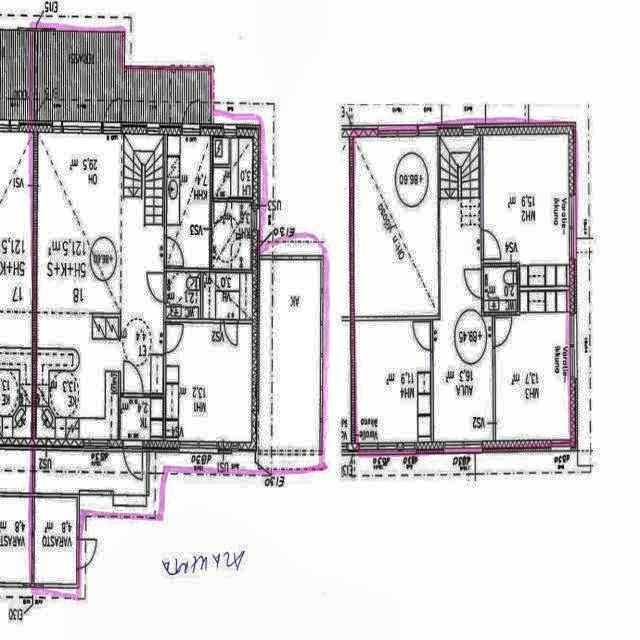room: (353, 137, 438, 316), (483, 135, 569, 286), (495, 291, 570, 439), (166, 324, 252, 441), (354, 321, 431, 442), (167, 136, 210, 267), (166, 273, 253, 319), (213, 138, 252, 197), (484, 266, 517, 312)
